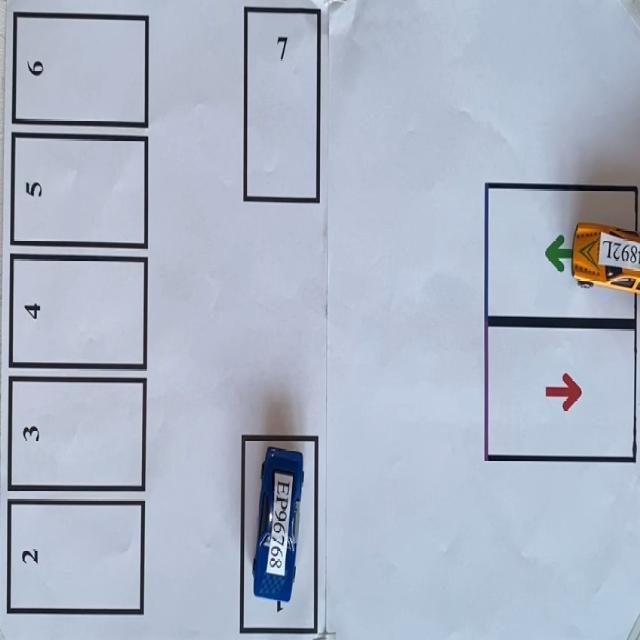car: (253, 447, 303, 610), (573, 222, 639, 293)
